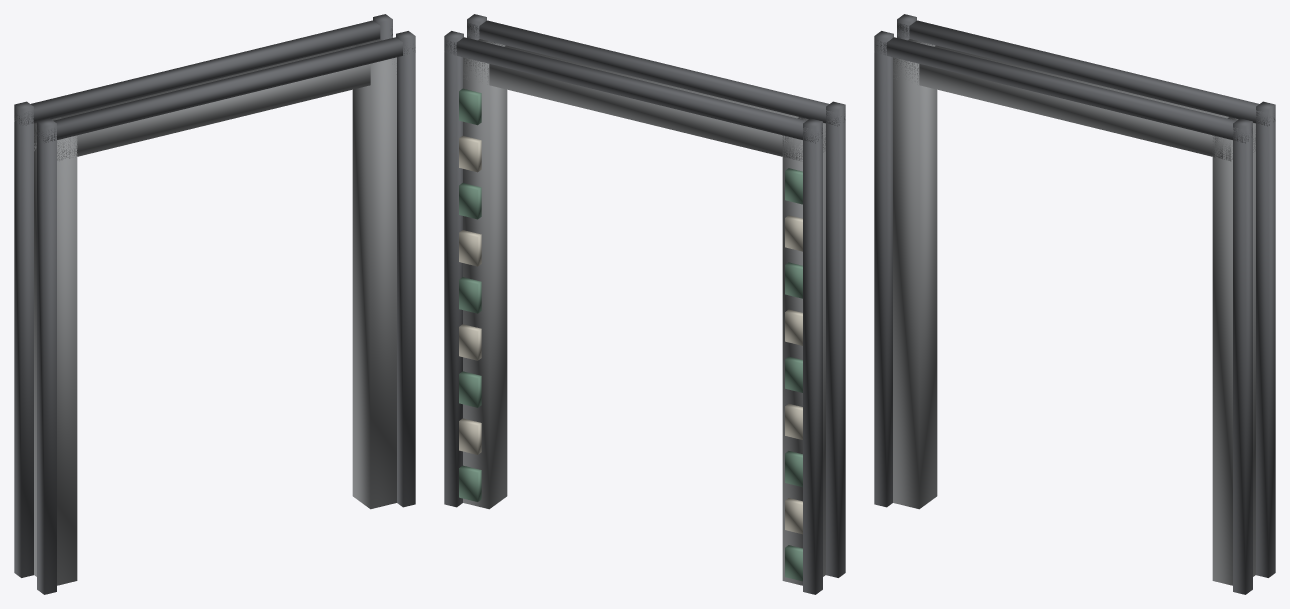
Rendered from doorway_tile_return_w152_h210_d16.glb.
3 renders of one model, left to right at view 1: azimuth 30°, elevation 25°; view 2: azimuth 150°, elevation 25°; view 3: azimuth 330°, elevation 25°, orthographic.
Parts seen in each view (by area): view 1: world; view 2: world; view 3: world.
Boxes of the visible parts, x1,y1,x2,y2 form: world: (14, 14, 415, 594); world: (444, 14, 845, 594); world: (874, 14, 1275, 594).
Size of the model in its own units: 1.92 by 2.32 by 0.2716.
